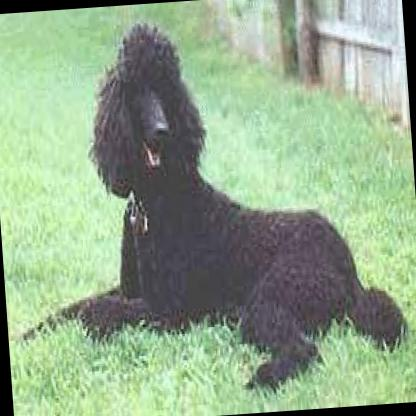standard_poodle: (0, 4, 410, 405)
